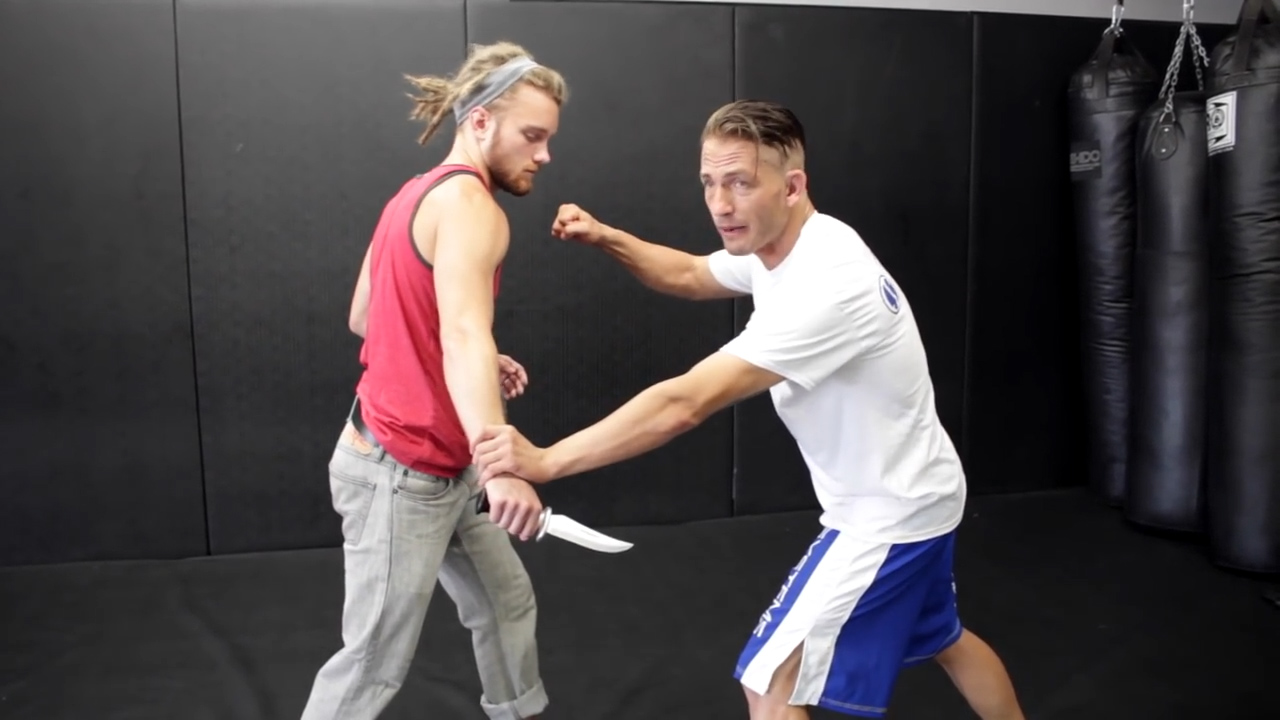knife: (462, 478, 646, 568)
